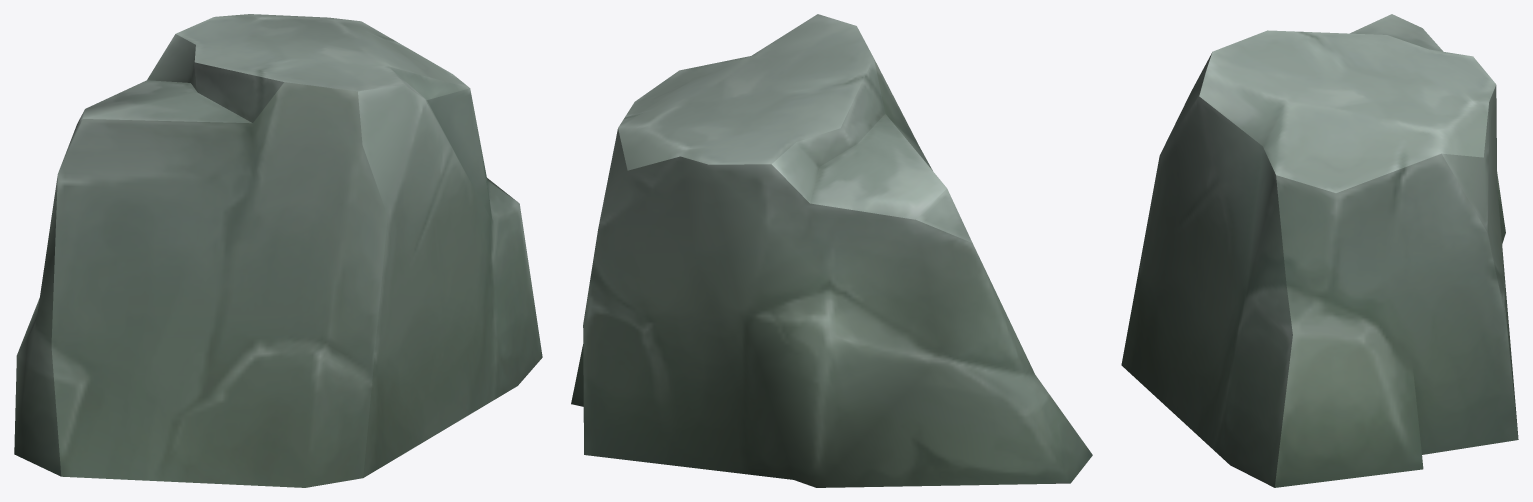
Rendered from field_rocks_ore_001a.fbx.
3 views of the same model, side by side, from view 1: azimuth 30°, elevation 25°; view 2: azimuth 150°, elevation 25°; view 3: azimuth 270°, elevation 25° (orthographic). The views are drawn at different scales.
Visible parts, largest first — view 1: field_rocks_ore_001a; view 2: field_rocks_ore_001a; view 3: field_rocks_ore_001a.
Part boxes in pixels (x1,y1,x2,y2): field_rocks_ore_001a: (14,14,542,487); field_rocks_ore_001a: (571,14,1092,487); field_rocks_ore_001a: (1121,14,1518,487).
Bounding box in the file's own units: 154 × 101 × 110.
